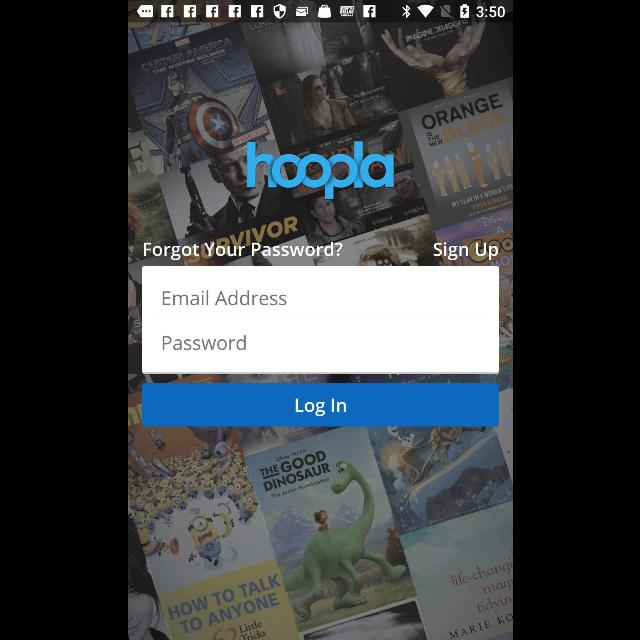backgroundimage: (128, 22, 512, 640)
image: (246, 142, 394, 200)
input: (142, 320, 498, 374), (142, 266, 498, 320)
text: (142, 242, 342, 260), (162, 290, 286, 306), (162, 334, 245, 350), (432, 242, 498, 262)
textbutton: (142, 384, 498, 426)
uppertaskbar: (128, 1, 512, 23)
